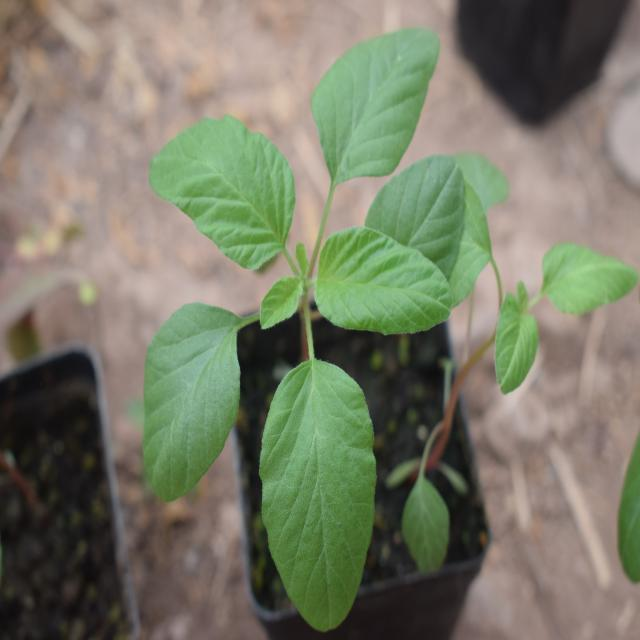pigweed: (137, 24, 444, 583)
